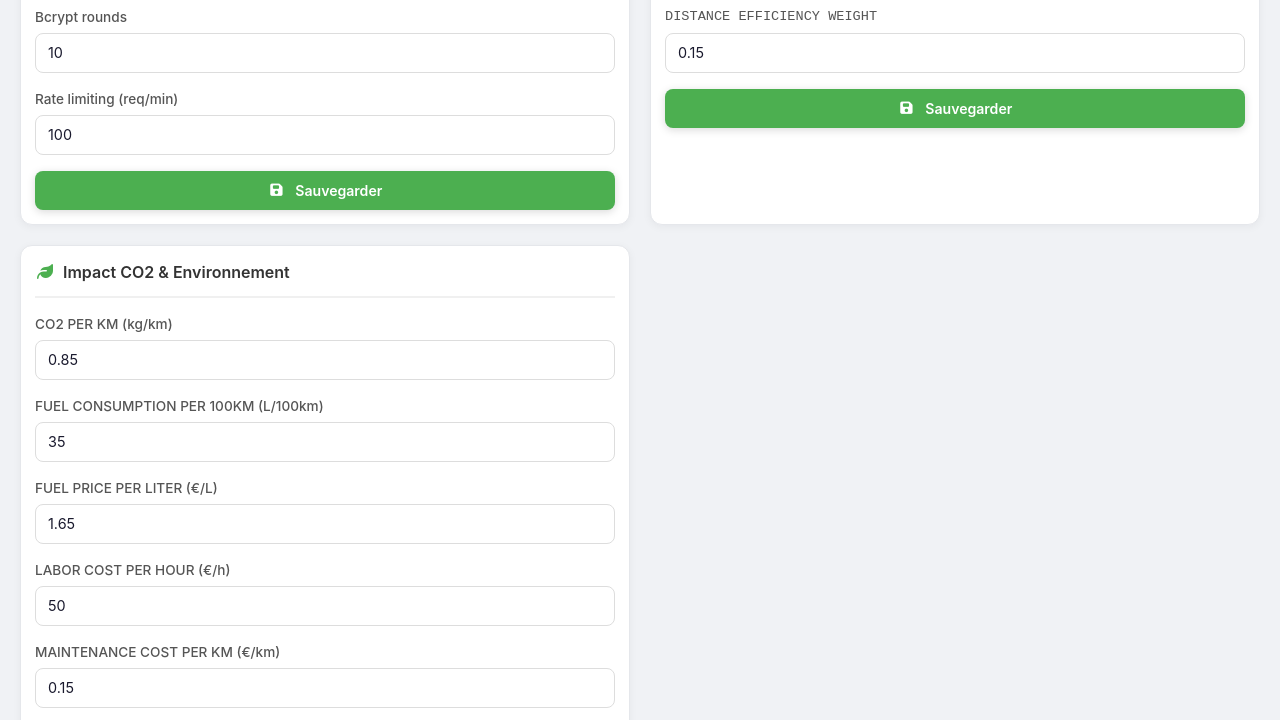
it: ConfigurationPage › should disable environment save when a required value is empty
(page scrolled)
Clear the number field below "CO2 PER KM (kg/km)" at (325, 360), box 35,340 -> 615,380
(page scrolled)
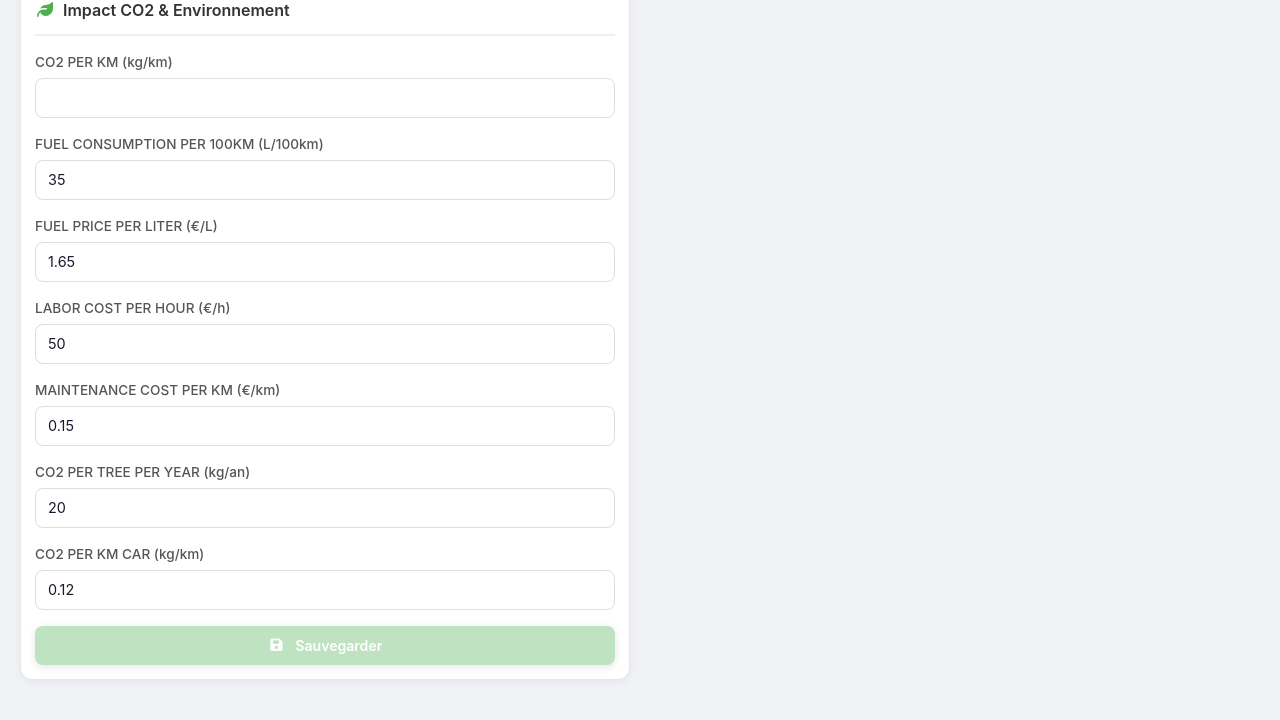
expect the button "Sauvegarder" is disabled: met, box 35,626 -> 615,665
